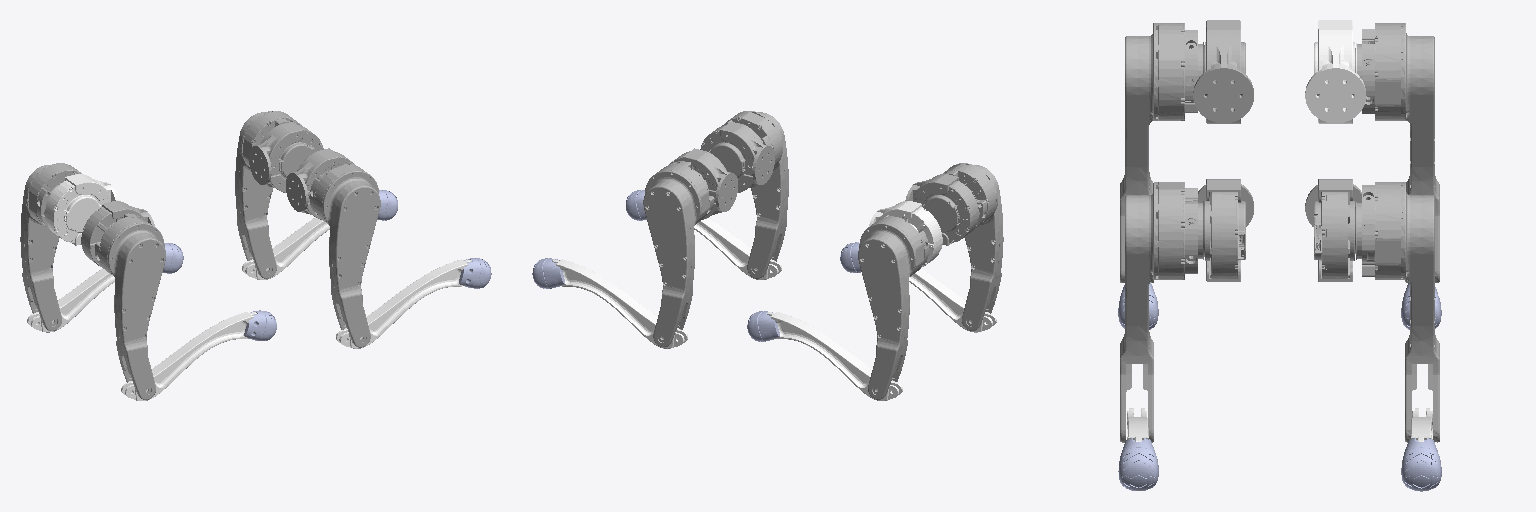
URDF robot description (custom_dog):
<?xml version='1.0' encoding='utf-8'?>
<robot name="custom_dog">
  <link name="base">
    <inertial>
      <!-- Includes 1.30084 kg battery at base origin; point-mass approximation (dimensions unknown). -->
      <origin xyz="-0.00354795931007695 0.00106892344791073 -0.00160115455741634" rpy="0 0 0" />
      <mass value="7.85084" />
      <inertia ixx="0.0309718860309686" ixy="-0.000238429473774413" ixz="0.000278934340039972" iyy="0.0735368232985286" iyz="-3.93030294503731e-05" izz="0.093029777706926" />
    </inertial>
    <visual>
      <origin xyz="0 0 0" rpy="0 0 0" />
      <geometry>
        <mesh filename="package://custom_dog_description/meshes/base.STL" />
      </geometry>
      <material name="">
        <color rgba="0.75294 0.75294 0.75294 1" />
      </material>
    </visual>
    <collision>
      <origin xyz="0 0.005 0" rpy="0 0 0" />
      <geometry>
        <box size="0.255 0.220 0.100" />
      </geometry>
    </collision>
  </link>
  <link name="FR_hip">
    <inertial>
      <origin xyz="-0.00662 -0.000709999999999 -8.2639413656e-05" rpy="0 0 0" />
      <mass value="0.65268" />
      <inertia ixx="0.000401158792846" ixy="2.28472403567e-05" ixz="1.12106928947e-06" iyy="0.000738260470304" iyz="6.27050056427e-07" izz="0.000444726717055" />
    </inertial>
    <visual>
      <origin xyz="0 0 0" rpy="0 0 0" />
      <geometry>
        <mesh filename="package://custom_dog_description/meshes/FR_hip.STL" />
      </geometry>
      <material name="">
        <color rgba="0.75294 0.75294 0.75294 1" />
      </material>
    </visual>
    <collision>
      <origin xyz="-0.004 0 0" rpy="0 1.57079632679 0" />
      <geometry>
        <cylinder radius="0.040" length="0.090" />
      </geometry>
    </collision>
  </link>
  <link name="FR_thigh">
    <inertial>
      <origin xyz="-0.00272000000032 0.0242704960879 -0.0234789534304" rpy="0 0 0" />
      <mass value="1.00599" />
      <inertia ixx="0.00368293995879" ixy="-6.78297878351e-05" ixz="-0.00024038424463" iyy="0.00383450995517" iyz="-0.000582928644237" izz="0.000989001199744" />
    </inertial>
    <visual>
      <origin xyz="0 0 0" rpy="0 0 0" />
      <geometry>
        <mesh filename="package://custom_dog_description/meshes/FR_thigh.STL" />
      </geometry>
      <material name="">
        <color rgba="0.75294 0.75294 0.75294 1" />
      </material>
    </visual>
    <collision>
      <origin xyz="0 0 -0.09" rpy="0 0 0" />
      <geometry>
        <cylinder radius="0.035" length="0.17" />
      </geometry>
    </collision>
  </link>
  <link name="FR_calf">
    <inertial>
      <origin xyz="0.00663162723916 -9.75017136863e-06 -0.0759949634159" rpy="0 0 0" />
      <mass value="0.11021" />
      <inertia ixx="0.00056885869487" ixy="8.24315624731e-09" ixz="6.33792768142e-05" iyy="0.000585941915495" iyz="-7.24279333575e-08" izz="2.26830292967e-05" />
    </inertial>
    <visual>
      <origin xyz="0 0 0" rpy="0 0 0" />
      <geometry>
        <mesh filename="package://custom_dog_description/meshes/FR_calf.STL" />
      </geometry>
      <material name="">
        <color rgba="1 1 1 1" />
      </material>
    </visual>
    <collision>
      <origin xyz="0 0 -0.09" rpy="0 0 0" />
      <geometry>
        <cylinder radius="0.022" length="0.15" />
      </geometry>
    </collision>
  </link>
  <link name="FR_foot">
    <inertial>
      <origin xyz="-0.00115497980177 0.000246147409727 -0.00164903419433" rpy="0 0 0" />
      <mass value="0.05591" />
      <inertia ixx="1.36224062359e-05" ixy="-4.37720487792e-08" ixz="-1.08788958632e-06" iyy="1.52770048128e-05" iyz="-5.66825840722e-08" izz="1.19522783839e-05" />
    </inertial>
    <visual>
      <origin xyz="0 0 0" rpy="0 0 0" />
      <geometry>
        <mesh filename="package://custom_dog_description/meshes/FR_foot.STL" />
      </geometry>
      <material name="">
        <color rgba="0.79216 0.81961 0.93333 1" />
      </material>
    </visual>
    <collision>
      <origin xyz="0 0 0" rpy="0 0 0" />
      <geometry>
        <sphere radius="0.026" />
      </geometry>
    </collision>
  </link>
  <link name="FL_hip">
    <inertial>
      <origin xyz="-0.00662 0.000710000000001 7.73605863441e-05" rpy="0 0 0" />
      <mass value="0.65268" />
      <inertia ixx="0.000401158792846" ixy="-2.28472403568e-05" ixz="-1.12106928951e-06" iyy="0.000738260470304" iyz="6.27050056414e-07" izz="0.000444726717055" />
    </inertial>
    <visual>
      <origin xyz="0 0 0" rpy="0 0 0" />
      <geometry>
        <mesh filename="package://custom_dog_description/meshes/FL_hip.STL" />
      </geometry>
      <material name="">
        <color rgba="0.752941176470588 0.752941176470588 0.752941176470588 1" />
      </material>
    </visual>
    <collision>
      <origin xyz="-0.004 0 0" rpy="0 1.57079632679 0" />
      <geometry>
        <cylinder radius="0.040" length="0.090" />
      </geometry>
    </collision>
  </link>
  <link name="FL_thigh">
    <inertial>
      <origin xyz="-0.00280000000066 -0.0242708716707 -0.0235589525485" rpy="0 0 0" />
      <mass value="1.00599" />
      <inertia ixx="0.00372327510307" ixy="6.62607607445e-05" ixz="-0.000255546277468" iyy="0.00382984813914" iyz="0.00058102695259" izz="0.000944049165359" />
    </inertial>
    <visual>
      <origin xyz="0 0 0" rpy="0 0 0" />
      <geometry>
        <mesh filename="package://custom_dog_description/meshes/FL_thigh.STL" />
      </geometry>
      <material name="">
        <color rgba="0.752941176470588 0.752941176470588 0.752941176470588 1" />
      </material>
    </visual>
    <collision>
      <origin xyz="0 0 -0.09" rpy="0 0 0" />
      <geometry>
        <cylinder radius="0.035" length="0.17" />
      </geometry>
    </collision>
  </link>
  <link name="FL_calf">
    <inertial>
      <origin xyz="0.00667000047467 -5.14276350637e-05 -0.0759915882735" rpy="0 0 0" />
      <mass value="0.11021" />
      <inertia ixx="0.000568794548174" ixy="4.31904745811e-08" ixz="6.36550247973e-05" iyy="0.000585941666649" iyz="-3.81305937138e-07" izz="2.27474248387e-05" />
    </inertial>
    <visual>
      <origin xyz="0 0 0" rpy="0 0 0" />
      <geometry>
        <mesh filename="package://custom_dog_description/meshes/FL_calf.STL" />
      </geometry>
      <material name="">
        <color rgba="1 1 1 1" />
      </material>
    </visual>
    <collision>
      <origin xyz="0 0 -0.09" rpy="0 0 0" />
      <geometry>
        <cylinder radius="0.022" length="0.15" />
      </geometry>
    </collision>
  </link>
  <link name="FL_foot">
    <inertial>
      <origin xyz="-0.00115428545565 0.000245402994684 -0.00164993728948" rpy="0 0 0" />
      <mass value="0.05591" />
      <inertia ixx="1.36235040402e-05" ixy="-4.43347561358e-08" ixz="-1.0870216836e-06" iyy="1.52769416825e-05" iyz="-5.85339713132e-08" izz="1.19512437098e-05" />
    </inertial>
    <visual>
      <origin xyz="0 0 0" rpy="0 0 0" />
      <geometry>
        <mesh filename="package://custom_dog_description/meshes/FL_foot.STL" />
      </geometry>
      <material name="">
        <color rgba="0.792156862745098 0.819607843137255 0.933333333333333 1" />
      </material>
    </visual>
    <collision>
      <origin xyz="0 0 0" rpy="0 0 0" />
      <geometry>
        <sphere radius="0.026" />
      </geometry>
    </collision>
  </link>
  <link name="RR_hip">
    <inertial>
      <origin xyz="0.00662 -0.000710000000002 7.73605863424e-05" rpy="0 0 0" />
      <mass value="0.65268" />
      <inertia ixx="0.000401158792846" ixy="-2.28472403568e-05" ixz="1.12106928946e-06" iyy="0.000738260470304" iyz="-6.27050056427e-07" izz="0.000444726717055" />
    </inertial>
    <visual>
      <origin xyz="0 0 0" rpy="0 0 0" />
      <geometry>
        <mesh filename="package://custom_dog_description/meshes/RR_hip.STL" />
      </geometry>
      <material name="">
        <color rgba="0.752941176470588 0.752941176470588 0.752941176470588 1" />
      </material>
    </visual>
    <collision>
      <origin xyz="0.004 0 0" rpy="0 1.57079632679 0" />
      <geometry>
        <cylinder radius="0.040" length="0.090" />
      </geometry>
    </collision>
  </link>
  <link name="RR_thigh">
    <inertial>
      <origin xyz="-0.00269000000028 0.02427063693 -0.0235089530989" rpy="0 0 0" />
      <mass value="1.00599" />
      <inertia ixx="0.00370518477983" ixy="-6.84338906306e-05" ixz="-0.000252052315668" iyy="0.00383313649116" iyz="-0.000582224790473" izz="0.000965395152364" />
    </inertial>
    <visual>
      <origin xyz="0 0 0" rpy="0 0 0" />
      <geometry>
        <mesh filename="package://custom_dog_description/meshes/RR_thigh.STL" />
      </geometry>
      <material name="">
        <color rgba="0.752941176470588 0.752941176470588 0.752941176470588 1" />
      </material>
    </visual>
    <collision>
      <origin xyz="0 0 -0.09" rpy="0 0 0" />
      <geometry>
        <cylinder radius="0.035" length="0.17" />
      </geometry>
    </collision>
  </link>
  <link name="RR_calf">
    <inertial>
      <origin xyz="0.00669348198793 6.40672853716e-05 -0.0759895139724" rpy="0 0 0" />
      <mass value="0.11021" />
      <inertia ixx="0.00056875515651" ixy="-5.36985220294e-08" ixz="6.38237363923e-05" iyy="0.000585941524774" iyz="4.74638255069e-07" izz="2.27869583774e-05" />
    </inertial>
    <visual>
      <origin xyz="0 0 0" rpy="0 0 0" />
      <geometry>
        <mesh filename="package://custom_dog_description/meshes/RR_calf.STL" />
      </geometry>
      <material name="">
        <color rgba="1 1 1 1" />
      </material>
    </visual>
    <collision>
      <origin xyz="0 0 -0.09" rpy="0 0 0" />
      <geometry>
        <cylinder radius="0.022" length="0.15" />
      </geometry>
    </collision>
  </link>
  <link name="RR_foot">
    <inertial>
      <origin xyz="-0.00115363889125 0.00024736930759 -0.00165040042545" rpy="0 0 0" />
      <mass value="0.05591" />
      <inertia ixx="1.36241747485e-05" ixy="-4.2655170385e-08" ixz="-1.08657112944e-06" iyy="1.52771121418e-05" iyz="-5.35029554666e-08" izz="1.19504025424e-05" />
    </inertial>
    <visual>
      <origin xyz="0 0 0" rpy="0 0 0" />
      <geometry>
        <mesh filename="package://custom_dog_description/meshes/RR_foot.STL" />
      </geometry>
      <material name="">
        <color rgba="0.792156862745098 0.819607843137255 0.933333333333333 1" />
      </material>
    </visual>
    <collision>
      <origin xyz="0 0 0" rpy="0 0 0" />
      <geometry>
        <sphere radius="0.026" />
      </geometry>
    </collision>
  </link>
  <link name="RL_hip">
    <inertial>
      <origin xyz="0.00662 0.000710000000002 -8.26394136562e-05" rpy="0 0 0" />
      <mass value="0.65268" />
      <inertia ixx="0.000401158792846" ixy="2.28472403567e-05" ixz="-1.12106928947e-06" iyy="0.000738260470304" iyz="-6.27050056427e-07" izz="0.000444726717055" />
    </inertial>
    <visual>
      <origin xyz="0 0 0" rpy="0 0 0" />
      <geometry>
        <mesh filename="package://custom_dog_description/meshes/RL_hip.STL" />
      </geometry>
      <material name="">
        <color rgba="1 1 1 1" />
      </material>
    </visual>
    <collision>
      <origin xyz="0.004 0 0" rpy="0 1.57079632679 0" />
      <geometry>
        <cylinder radius="0.040" length="0.090" />
      </geometry>
    </collision>
  </link>
  <link name="RL_thigh">
    <inertial>
      <origin xyz="-0.00269999999945 -0.0242705899864 -0.0234989532093" rpy="0 0 0" />
      <mass value="1.00599" />
      <inertia ixx="0.00369359546639" ixy="6.84719366465e-05" ixz="-0.000239527367434" iyy="0.00383351585443" iyz="0.000582312903995" izz="0.000977373675684" />
    </inertial>
    <visual>
      <origin xyz="0 0 0" rpy="0 0 0" />
      <geometry>
        <mesh filename="package://custom_dog_description/meshes/RL_thigh.STL" />
      </geometry>
      <material name="">
        <color rgba="0.752941176470588 0.752941176470588 0.752941176470588 1" />
      </material>
    </visual>
    <collision>
      <origin xyz="0 0 -0.09" rpy="0 0 0" />
      <geometry>
        <cylinder radius="0.035" length="0.17" />
      </geometry>
    </collision>
  </link>
  <link name="RL_calf">
    <inertial>
      <origin xyz="0.00695093172846 3.79227227692e-08 -0.0759664240806" rpy="0 0 0" />
      <mass value="0.11021" />
      <inertia ixx="0.00056831636074" ixy="7.9475054204e-11" ixz="6.56722801529e-05" iyy="0.000585941924809" iyz="1.19693433393e-10" izz="2.32253541132e-05" />
    </inertial>
    <visual>
      <origin xyz="0 0 0" rpy="0 0 0" />
      <geometry>
        <mesh filename="package://custom_dog_description/meshes/RL_calf.STL" />
      </geometry>
      <material name="">
        <color rgba="1 1 1 1" />
      </material>
    </visual>
    <collision>
      <origin xyz="0 0 -0.09" rpy="0 0 0" />
      <geometry>
        <cylinder radius="0.022" length="0.15" />
      </geometry>
    </collision>
  </link>
  <link name="RL_foot">
    <inertial>
      <origin xyz="-0.00114838274821 0.000250104207798 -0.00165038140726" rpy="0 0 0" />
      <mass value="0.05591" />
      <inertia ixx="1.36315191682e-05" ixy="-4.33830233298e-08" ixz="-1.08083857177e-06" iyy="1.52770195603e-05" iyz="-5.64498099326e-08" izz="1.19431507041e-05" />
    </inertial>
    <visual>
      <origin xyz="0 0 0" rpy="0 0 0" />
      <geometry>
        <mesh filename="package://custom_dog_description/meshes/RL_foot.STL" />
      </geometry>
      <material name="">
        <color rgba="0.792156862745098 0.819607843137255 0.933333333333333 1" />
      </material>
    </visual>
    <collision>
      <origin xyz="0 0 0" rpy="0 0 0" />
      <geometry>
        <sphere radius="0.026" />
      </geometry>
    </collision>
  </link>
  <joint name="FR_hip_joint" type="revolute">
    <origin xyz="0.185 -0.055 0.00018264" rpy="0 0 0" />
    <parent link="base" />
    <child link="FR_hip" />
    <axis xyz="1 0 0" />
    <limit lower="-1.0472" upper="1.0472" effort="23.7" velocity="30" />
  </joint>
  <joint name="FR_thigh_joint" type="revolute">
    <origin xyz="0 -0.08415 0" rpy="-0.0046948 0 0" />
    <parent link="FR_hip" />
    <child link="FR_thigh" />
    <axis xyz="0 0.999988979447 0.00469478275356" />
    <limit lower="-1.5708" upper="3.4907" effort="23.7" velocity="30" />
  </joint>
  <joint name="FR_calf_joint" type="revolute">
    <origin xyz="0 0 -0.213" rpy="0.0048231 -0.0006497 0" />
    <parent link="FR_thigh" />
    <child link="FR_calf" />
    <axis xyz="0 0.999988368876 -0.00482308130063" />
    <limit lower="-2.8274333882" upper="-0.83775804096" effort="45" velocity="15" />
  </joint>
  <joint name="FR_foot_joint" type="fixed">
    <origin xyz="0 0 -0.207645932301958" rpy="0 0 0" />
    <parent link="FR_calf" />
    <child link="FR_foot" />
  </joint>
  <joint name="FL_hip_joint" type="revolute">
    <origin xyz="0.185 0.055 0.00018264" rpy="0 0 0" />
    <parent link="base" />
    <child link="FL_hip" />
    <axis xyz="1 0 0" />
    <limit lower="-1.0472" upper="1.0472" effort="23.7" velocity="30" />
  </joint>
  <joint name="FL_thigh_joint" type="revolute">
    <origin xyz="0 0.084150000000009 0" rpy="0.00469480118752083 0 0" />
    <parent link="FL_hip" />
    <child link="FL_thigh" />
    <axis xyz="0 0.999988979441 -0.00469478394106" />
    <limit lower="-1.5708" upper="3.4907" effort="23.7" velocity="30" />
  </joint>
  <joint name="FL_calf_joint" type="revolute">
    <origin xyz="0 0 -0.213002347405684" rpy="-0.00401804702793096 -0.000144745906588796 0" />
    <parent link="FL_thigh" />
    <child link="FL_calf" />
    <axis xyz="0 0.99999192766 0.00401803621624" />
    <limit lower="-2.8274333882" upper="-0.83775804096" effort="45" velocity="15" />
  </joint>
  <joint name="FL_foot_joint" type="fixed">
    <origin xyz="0 0 -0.207579751226609" rpy="0 0 0" />
    <parent link="FL_calf" />
    <child link="FL_foot" />
  </joint>
  <joint name="RR_hip_joint" type="revolute">
    <origin xyz="-0.185 -0.055 0.00018264" rpy="0 0 0" />
    <parent link="base" />
    <child link="RR_hip" />
    <axis xyz="1 0 0" />
    <limit lower="-1.0472" upper="1.0472" effort="23.7" velocity="30" />
  </joint>
  <joint name="RR_thigh_joint" type="revolute">
    <origin xyz="0 -0.0841500000000318 0" rpy="-0.00469480118741762 0 0" />
    <parent link="RR_hip" />
    <child link="RR_thigh" />
    <axis xyz="0 0.999988979441 0.00469478394096" />
    <limit lower="-1.5708" upper="3.4907" effort="23.7" velocity="30" />
  </joint>
  <joint name="RR_calf_joint" type="revolute">
    <origin xyz="0 0 -0.213002347405246" rpy="0.00385169452685174 0.000164256286681431 0" />
    <parent link="RR_thigh" />
    <child link="RR_calf" />
    <axis xyz="0 0.999992582234 -0.00385168500319" />
    <limit lower="-2.8274333882" upper="-0.83775804096" effort="45" velocity="15" />
  </joint>
  <joint name="RR_foot_joint" type="fixed">
    <origin xyz="0 0 -0.207539297095126" rpy="0 0 0" />
    <parent link="RR_calf" />
    <child link="RR_foot" />
  </joint>
  <joint name="RL_hip_joint" type="revolute">
    <origin xyz="-0.185 0.054999999999998 0.000182639413656267" rpy="0 0 0" />
    <parent link="base" />
    <child link="RL_hip" />
    <axis xyz="1 0 0" />
    <limit lower="-1.0472" upper="1.0472" effort="23.7" velocity="30" />
  </joint>
  <joint name="RL_thigh_joint" type="revolute">
    <origin xyz="0 0.0841500000000134 0" rpy="0.00469480118743395 0 0" />
    <parent link="RL_hip" />
    <child link="RL_thigh" />
    <axis xyz="0 0.999988979441 -0.00469478394098" />
    <limit lower="-1.5708" upper="3.4907" effort="23.7" velocity="30" />
  </joint>
  <joint name="RL_calf_joint" type="revolute">
    <origin xyz="0 0 -0.213002347404803" rpy="-0.00469533001954943 0.00355269394965243 -1.66793844924154E-05" />
    <parent link="RL_thigh" />
    <child link="RL_calf" />
    <axis xyz="-1.66792792312e-05 0.999988977097 0.00469525351064" />
    <limit lower="-2.8274333882" upper="-0.83775804096" effort="45" velocity="15" />
  </joint>
  <joint name="RL_foot_joint" type="fixed">
    <origin xyz="0 0 -0.207097655168717" rpy="0 0 0" />
    <parent link="RL_calf" />
    <child link="RL_foot" />
  </joint>
</robot>

--- Facts derived from the render (not from the file) ---
3 views of the same robot in one strip: view 1: azimuth 30°, elevation 25°; view 2: azimuth 150°, elevation 25°; view 3: azimuth 270°, elevation 25° (orthographic).
Model custom_dog with 17 links and 16 joints (12 revolute, 4 fixed), rooted at base, posed joints at zero except 4 at the middle of their limits (FR_calf_joint = -1.83, FL_calf_joint = -1.83, RR_calf_joint = -1.83, RL_calf_joint = -1.83).
Links seen in each view (by area): view 1: FR_thigh, RR_thigh, RL_thigh, FL_thigh, FL_hip, RL_hip, FR_calf, RR_calf, FR_hip, RL_calf, FL_calf, RR_hip (+2 smaller); view 2: RL_thigh, FL_thigh, RR_thigh, FR_thigh, FR_hip, RR_hip, RL_calf, FL_calf, FL_hip, RR_calf, FR_calf, RL_hip (+2 smaller); view 3: FL_thigh, FR_thigh, RL_thigh, RR_thigh, RR_hip, RL_hip, FL_hip, FR_hip, FL_foot, FR_foot, FL_calf, FR_calf (+1 smaller).
Boxes of the visible links, box(x1,y1,x2,y2) form: FR_thigh: box(309, 163, 380, 347); RR_thigh: box(95, 213, 165, 399); RL_thigh: box(20, 163, 81, 330); FL_thigh: box(235, 111, 301, 278); FL_hip: box(249, 122, 323, 192); RL_hip: box(45, 174, 118, 245); FR_calf: box(336, 259, 471, 348); RR_calf: box(121, 312, 256, 400); FR_hip: box(286, 148, 353, 219); RL_calf: box(27, 268, 114, 332); FL_calf: box(242, 217, 329, 279); RR_hip: box(81, 201, 154, 266); RL_thigh: box(858, 215, 928, 399); FL_thigh: box(643, 161, 714, 347); RR_thigh: box(943, 163, 1003, 330); FR_thigh: box(722, 111, 788, 278); FR_hip: box(700, 122, 774, 192); RR_hip: box(905, 174, 979, 245); RL_calf: box(767, 312, 902, 400); FL_calf: box(552, 259, 687, 348); FL_hip: box(670, 148, 737, 219); RR_calf: box(909, 268, 996, 332); FR_calf: box(694, 218, 781, 279); RL_hip: box(869, 201, 942, 266); FL_thigh: box(1357, 182, 1439, 442); FR_thigh: box(1120, 182, 1202, 442); RL_thigh: box(1357, 23, 1439, 282); RR_thigh: box(1120, 23, 1202, 282); RR_hip: box(1193, 20, 1253, 123); RL_hip: box(1305, 20, 1365, 123); FL_hip: box(1305, 179, 1361, 281); FR_hip: box(1198, 179, 1253, 281); FL_foot: box(1401, 438, 1441, 491); FR_foot: box(1118, 438, 1158, 490); FL_calf: box(1411, 408, 1432, 441); FR_calf: box(1127, 408, 1148, 441).
Bounding box of the posed robot: 0.6457 × 0.3177 × 0.2826 m (x, y, z).
Meshes: 17 distinct files referenced, 16 mesh visuals loaded (16 binary STL); not drawn: 1 (reference not matched to a file when rendering).
